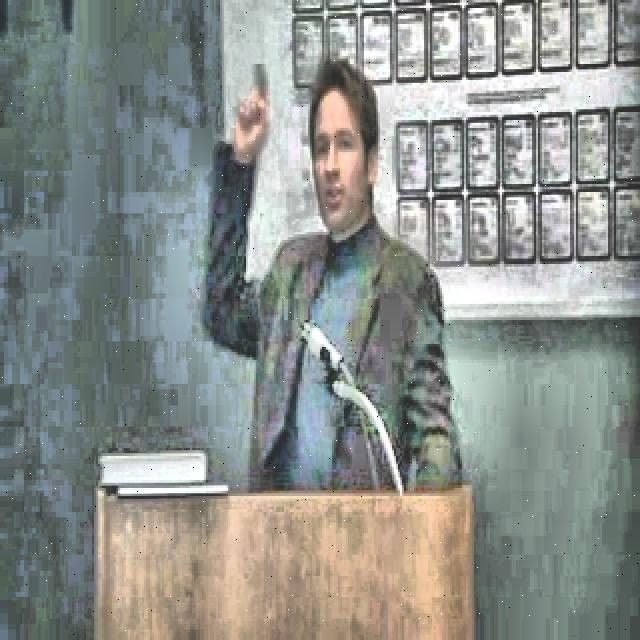T: (191, 41, 473, 505)
